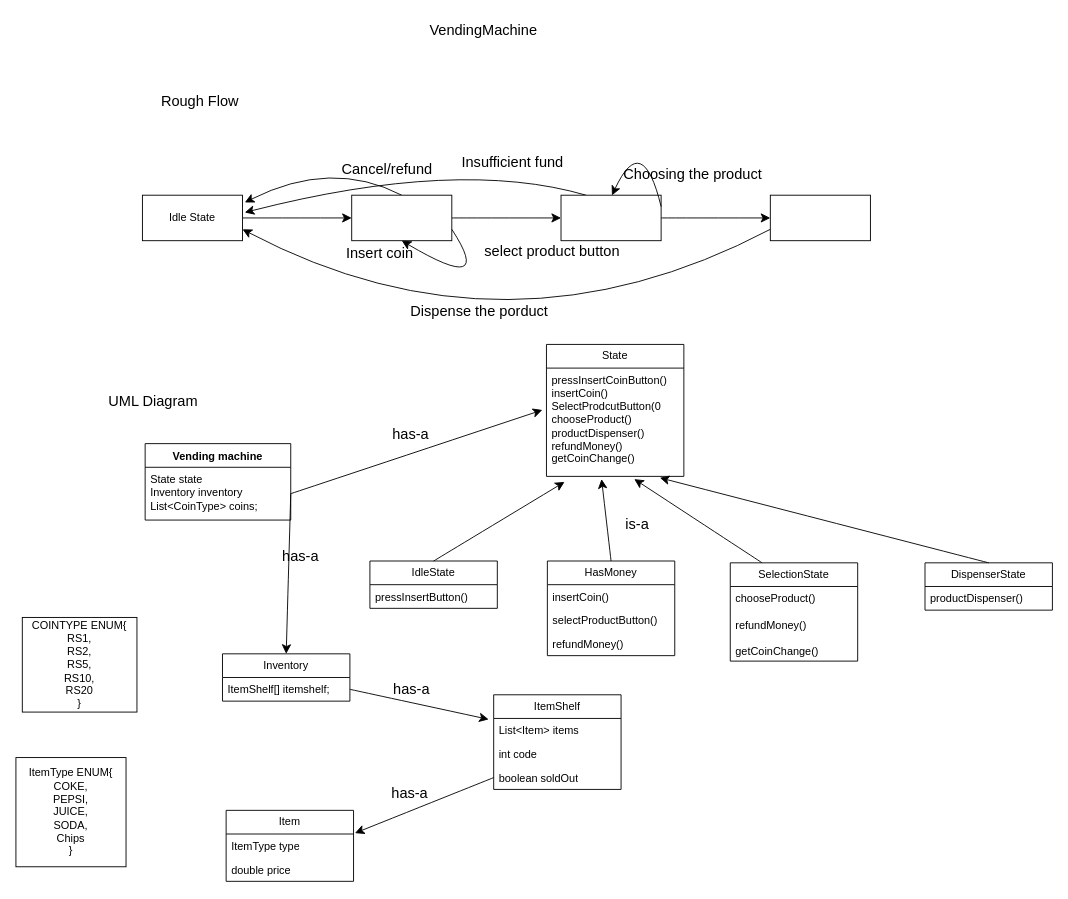
This 1068x899 diagram has some shape labels left out. Here are the shapes that lost their labels. From the top down, the centre of each, then its label:
the point at 401,217: Has Money State
the point at 610,217: Selection State
the point at 819,217: Dispense the product
